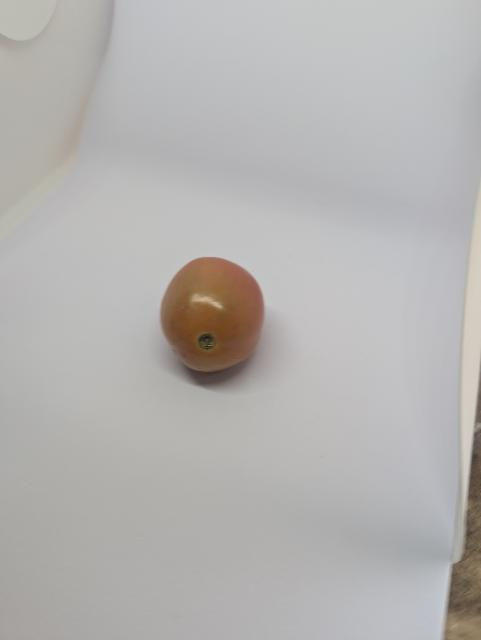turning: (157, 252, 270, 377)
